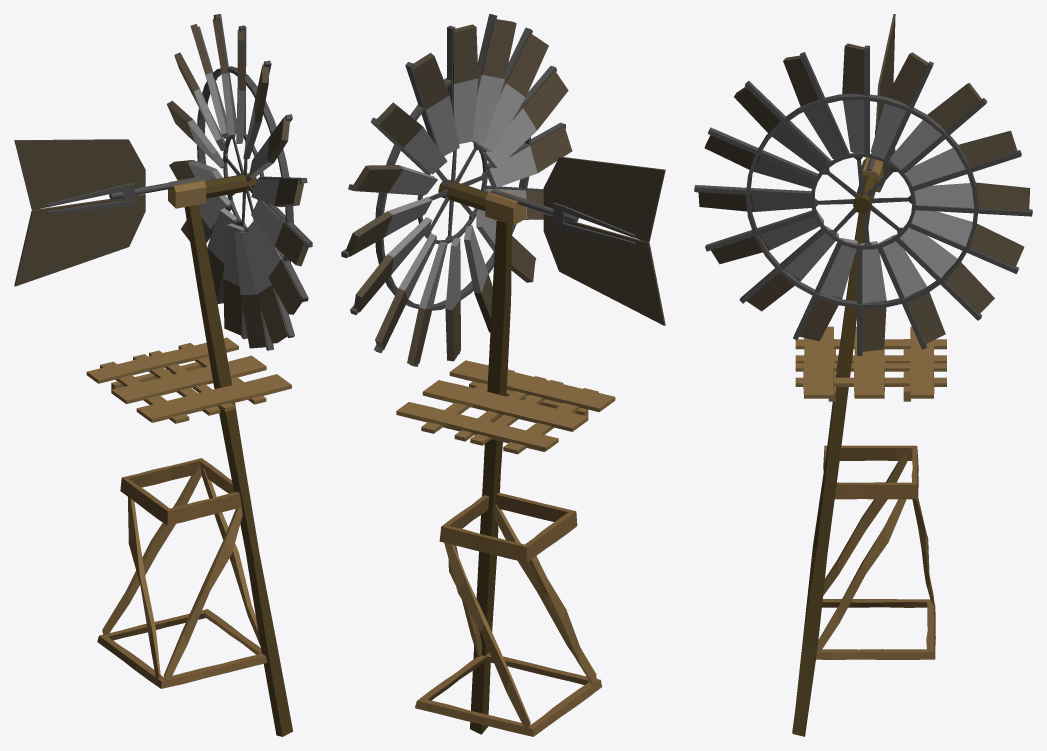
File: windmill.glb
The picture shows the model from 3 angles, left to right: view 1: azimuth 30°, elevation 25°; view 2: azimuth 150°, elevation 25°; view 3: azimuth 270°, elevation 25°; orthographic projection. The views are drawn at different scales.
Parts seen in each view (by area): view 1: Cylinder.005, Cylinder.004, Cube.221, Cube.220, Cube.222, Cube.219; view 2: Cylinder.005, Cylinder.004, Cube.221, Cube.220, Cube.222, Cube.219; view 3: Cylinder.005, Cube.221, Cube.220, Cube.222, Cylinder.004.
Part boxes in pixels (x1,y1,x2,y2): Cylinder.005: [167, 14, 312, 350]; Cylinder.004: [14, 139, 202, 286]; Cube.221: [97, 458, 267, 688]; Cube.220: [86, 337, 291, 423]; Cube.222: [184, 204, 293, 736]; Cube.219: [168, 176, 206, 208]; Cylinder.005: [341, 14, 572, 366]; Cylinder.004: [490, 156, 665, 325]; Cube.221: [415, 493, 601, 736]; Cube.220: [396, 360, 615, 454]; Cube.222: [470, 220, 511, 734]; Cube.219: [485, 189, 526, 225]; Cylinder.005: [694, 43, 1032, 355]; Cube.221: [816, 445, 935, 659]; Cube.220: [795, 326, 946, 401]; Cube.222: [792, 210, 870, 736]; Cylinder.004: [866, 14, 895, 192].
Size of the model in its own units: 4.41 by 12.31 by 5.5.
